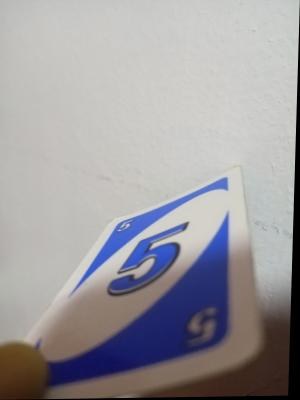blue: (108, 220, 222, 350)
num_5: (185, 302, 228, 348), (114, 219, 137, 234)
